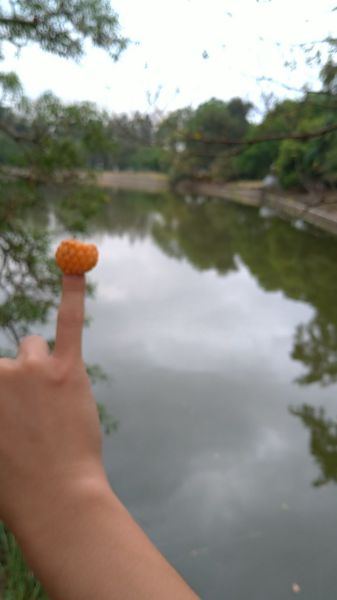eggs: (54, 241, 99, 275)
